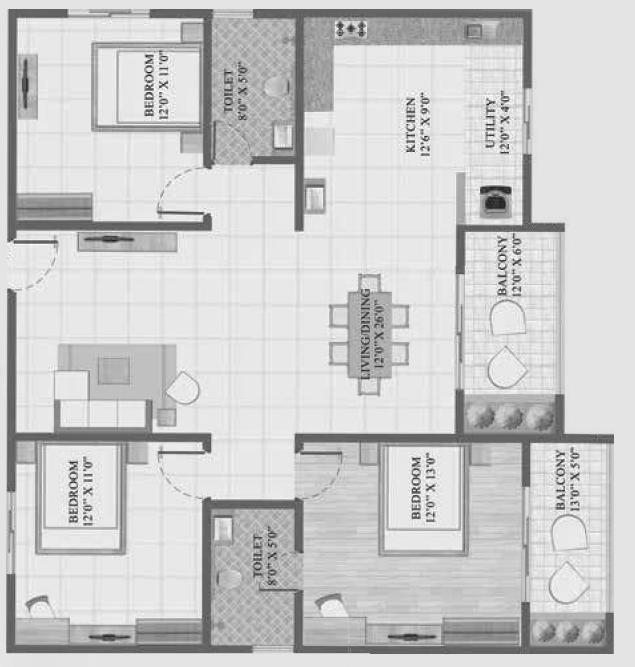Balcony: (462, 228, 559, 438), (524, 440, 608, 648)
Bed: (91, 47, 206, 126), (383, 444, 466, 551), (40, 443, 122, 548)
Bedroom: (301, 441, 527, 650), (14, 14, 210, 224), (9, 437, 204, 645)
Dining Room: (299, 230, 458, 437)
Dining table: (324, 271, 415, 398)
Kitchen: (301, 16, 459, 231)
Living Room: (14, 229, 298, 430)
Sofa: (54, 401, 147, 430), (54, 371, 88, 428)
Wardrobe: (14, 192, 93, 223), (445, 618, 523, 644), (138, 617, 203, 643)
commode: (260, 75, 292, 99), (216, 568, 243, 591)
door: (156, 161, 213, 217), (8, 239, 57, 290), (157, 451, 205, 502), (295, 454, 342, 505), (212, 119, 254, 162), (451, 273, 466, 392), (518, 485, 532, 602), (256, 552, 299, 589)
fridge: (305, 127, 335, 157)
kitchen-slab: (301, 15, 525, 46), (300, 14, 335, 113)
sink: (463, 21, 503, 43), (212, 515, 234, 543), (273, 123, 295, 150), (305, 184, 324, 212)
stove: (332, 18, 370, 37)
toilet: (209, 14, 296, 162), (209, 506, 298, 645)
tv: (20, 56, 40, 111), (77, 233, 150, 247), (385, 626, 438, 645), (81, 628, 132, 645)
utility: (458, 14, 527, 227)
washing-machine: (479, 187, 512, 218)
